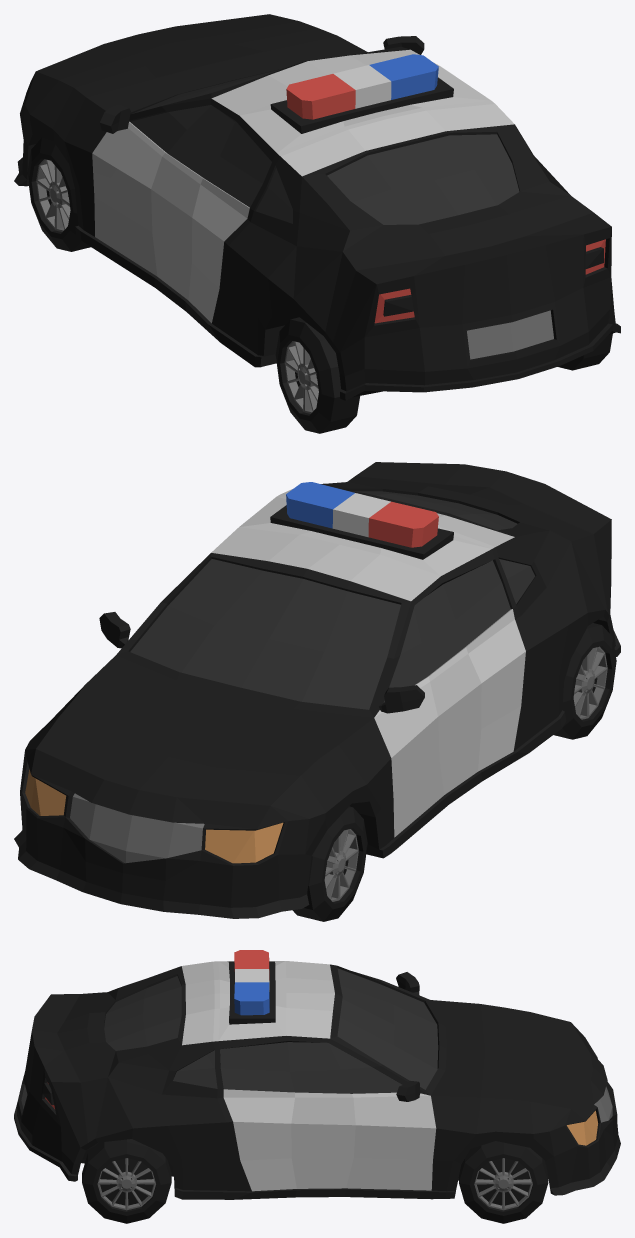
The model's file is Police Car.glb.
The picture shows the model from 3 angles, top to bottom: view 1: azimuth 30°, elevation 25°; view 2: azimuth 150°, elevation 25°; view 3: azimuth 270°, elevation 25°; orthographic projection. The views are drawn at different scales.
Parts seen in each view (by area): view 1: Cop_Cube.001, Roue_ARG, Roue_AVG, Roue_ARD; view 2: Cop_Cube.001, Roue_AVG, Roue_ARG; view 3: Cop_Cube.001, Roue_ARD, Roue_AVD.
Part boxes in pixels (x1=…): Cop_Cube.001: x1=14, y1=14, x2=620, y2=400; Roue_ARG: x1=275, y1=317, x2=360, y2=433; Roue_AVG: x1=27, y1=137, x2=90, y2=251; Roue_ARD: x1=558, y1=333, x2=612, y2=370; Cop_Cube.001: x1=14, y1=462, x2=620, y2=918; Roue_AVG: x1=293, y1=806, x2=367, y2=921; Roue_ARG: x1=554, y1=623, x2=616, y2=739; Cop_Cube.001: x1=14, y1=950, x2=620, y2=1199; Roue_ARD: x1=82, y1=1139, x2=171, y2=1223; Roue_AVD: x1=458, y1=1141, x2=548, y2=1223.
Size of the model in its own units: 7.24 by 5.48 by 15.37.
